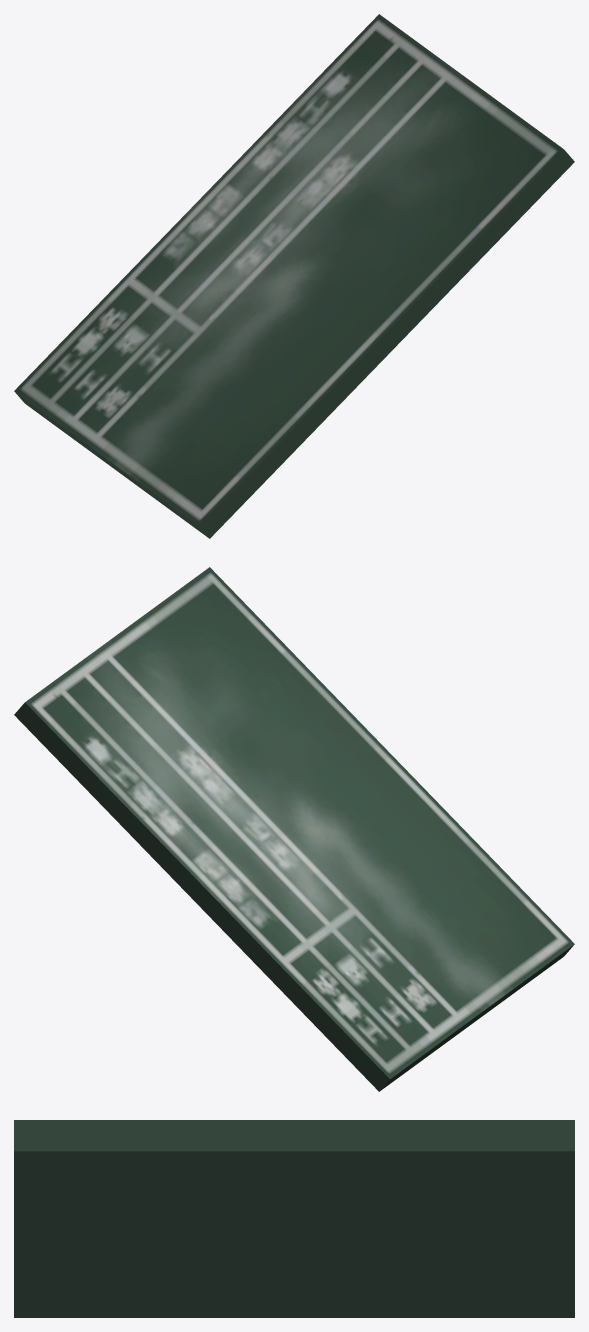
The picture shows the model from 3 angles, top to bottom: view 1: azimuth 30°, elevation 25°; view 2: azimuth 150°, elevation 25°; view 3: azimuth 270°, elevation 25°; orthographic projection. The views are drawn at different scales.
Parts seen in each view (by area): view 1: Joint_0_Object_0; view 2: Joint_0_Object_0; view 3: Joint_0_Object_0.
Boxes of the visible parts, x1,y1,x2,y2 form: Joint_0_Object_0: [14, 14, 574, 538]; Joint_0_Object_0: [14, 567, 574, 1091]; Joint_0_Object_0: [14, 1120, 574, 1317].
Size of the model in its own units: 823 by 634 by 700.
1 material, 1 textured.
